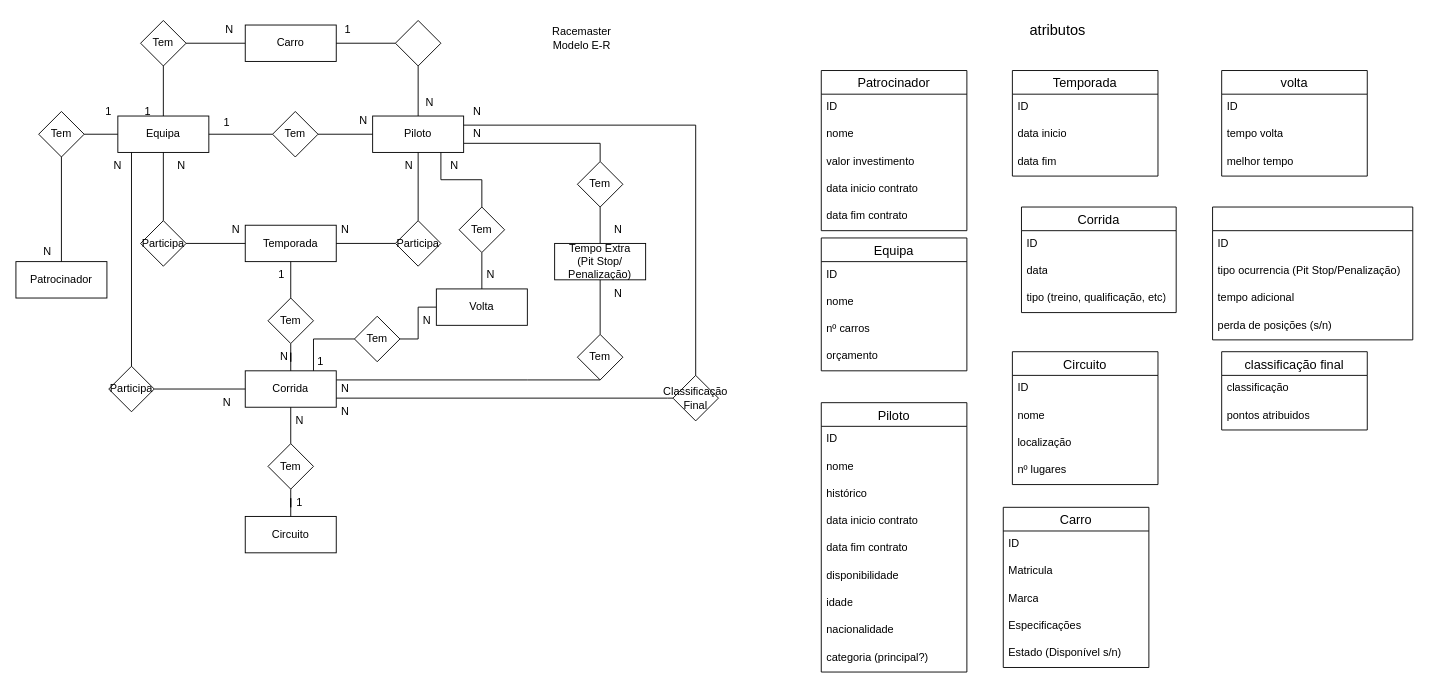
The diagram is 1429 pixels wide and 690 high, and some of its shapes have lost their labels. Here are the shapes that lost their labels. From the top down, the box of each, then its label:
(394, 20, 441, 66): Conduz
(1212, 206, 1413, 340): tempo extra
